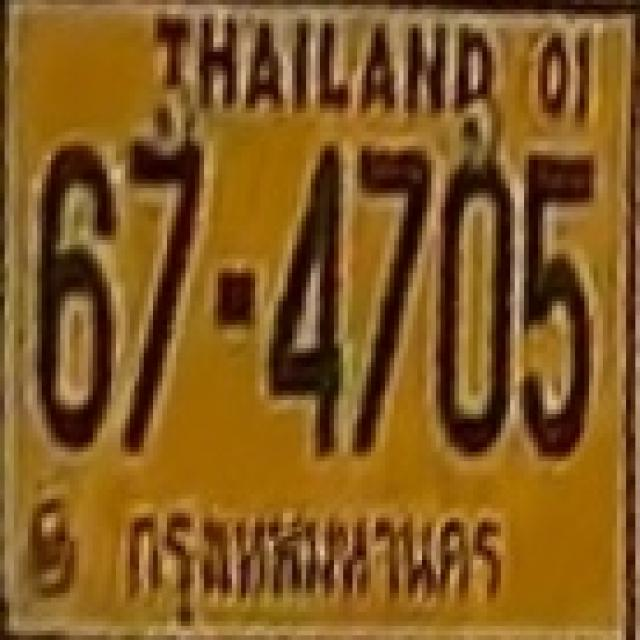0: (517, 254, 587, 452)
7: (128, 134, 202, 299), (357, 144, 427, 308)
BKK: (112, 496, 514, 629)
